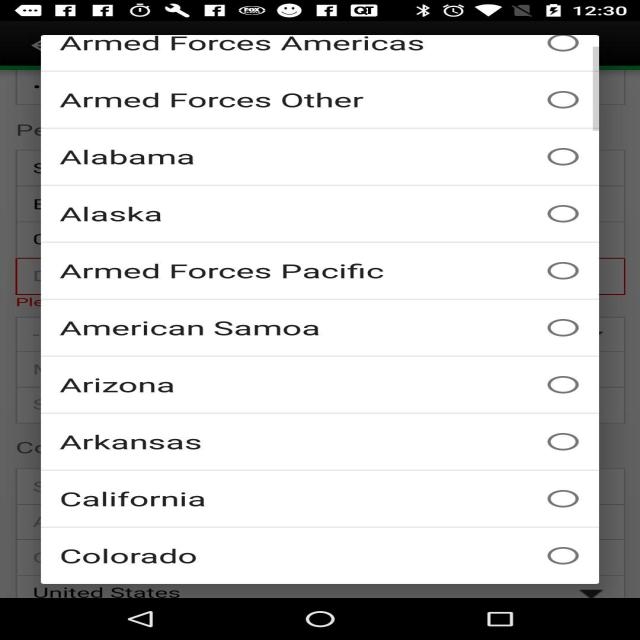button: (540, 197, 590, 233), (540, 250, 586, 287), (542, 369, 593, 402), (544, 85, 584, 116), (550, 140, 586, 174), (540, 432, 588, 457), (542, 492, 586, 519), (540, 542, 584, 567), (546, 315, 582, 342), (557, 34, 583, 61)
text: (48, 87, 394, 116), (54, 32, 441, 55), (60, 265, 392, 286), (50, 321, 338, 343), (63, 488, 209, 517), (57, 431, 220, 456), (54, 373, 184, 404), (57, 147, 212, 171), (57, 546, 212, 568), (49, 204, 171, 230)
